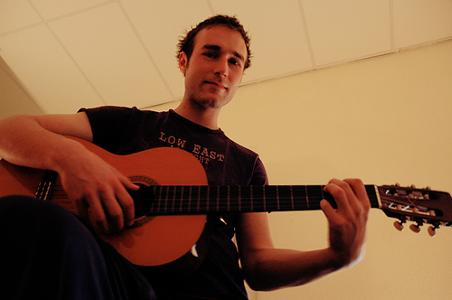person: (3, 16, 371, 300)
